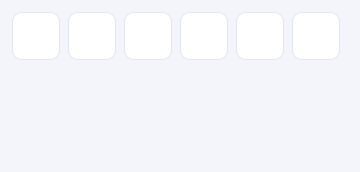
Scenario: OtpInput › overflows into later boxes when digits land mid-code
The image size is (360, 172).
Type "2913" into the field named "Email code digit 3" at (148, 36), box [124,12,172,60]
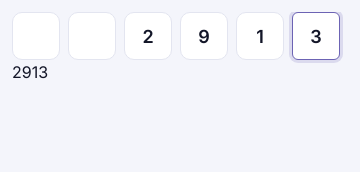
Check: the text with test id "value" reads "2913", box [12,62,48,82]
Check: the field named "Email code digit 3" holds "2", box [124,12,172,60]
